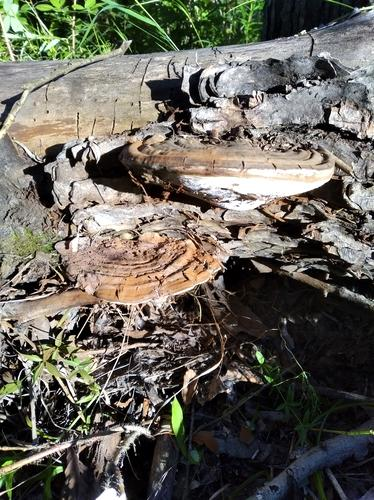Ganoderma - Fruit Body: (120, 128, 337, 211), (60, 221, 221, 306)
